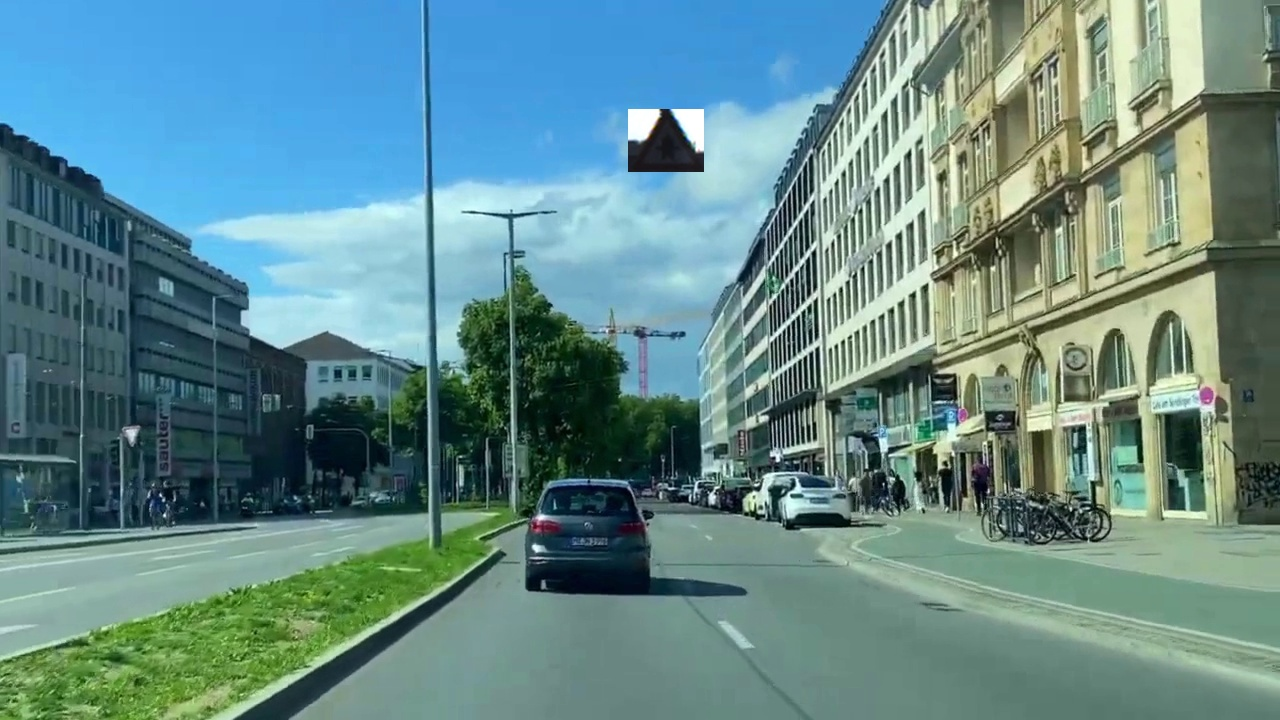Right-of-way: (628, 109, 704, 172)
